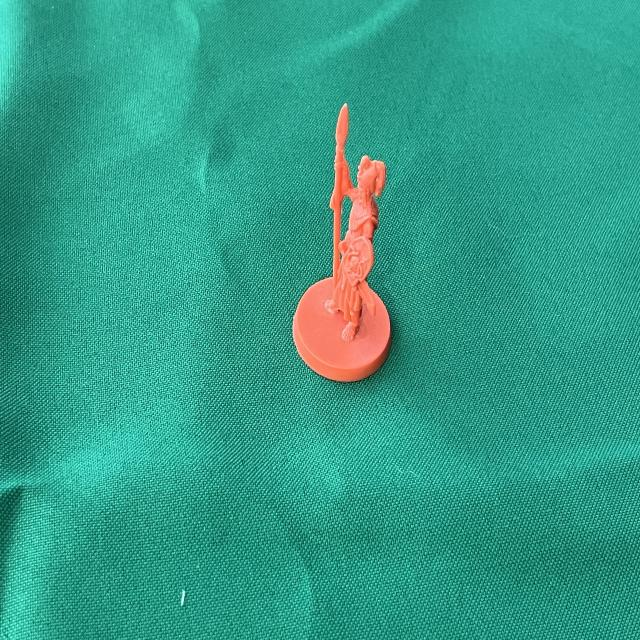amon_follower: (292, 103, 391, 382)
